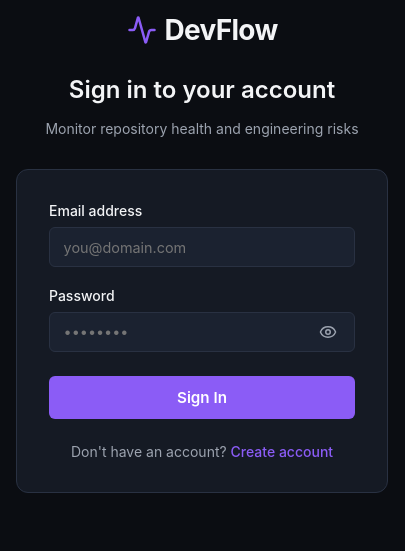
Scenario: Frontend Authentication UI & Validation (SPEC Section 11 & 12) › Login Page › validates required fields on empty submit
Click the button "Sign In" at (202, 397), box [49,376,355,419]
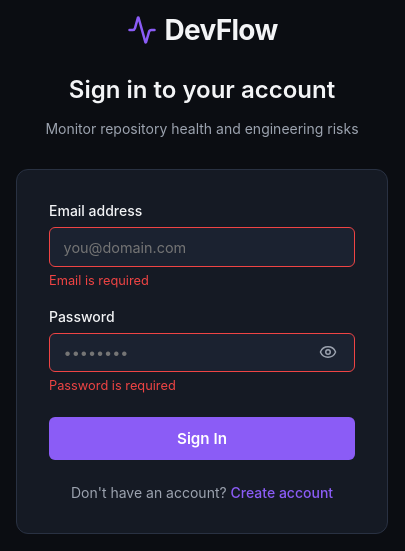
Check: the text "Email is required" is shown, box [49,272,149,288]
Check: the text "Password is required" is shown, box [49,378,176,393]
